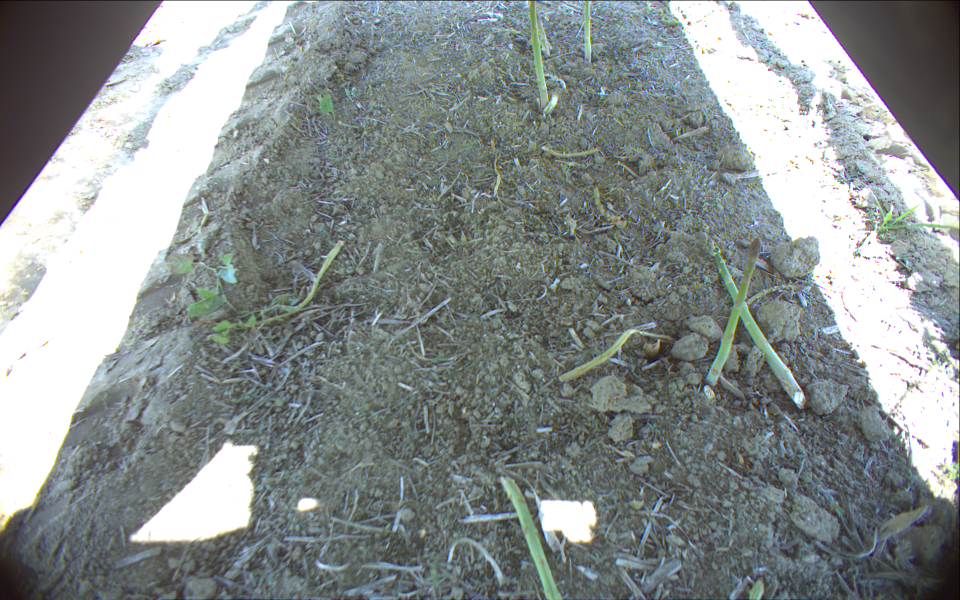aspa: (712, 240, 803, 405), (234, 240, 347, 332), (706, 237, 763, 387), (499, 474, 563, 600), (562, 323, 660, 384), (528, 1, 549, 108), (592, 186, 620, 222), (542, 145, 603, 156), (582, 1, 593, 61), (535, 12, 549, 55)
